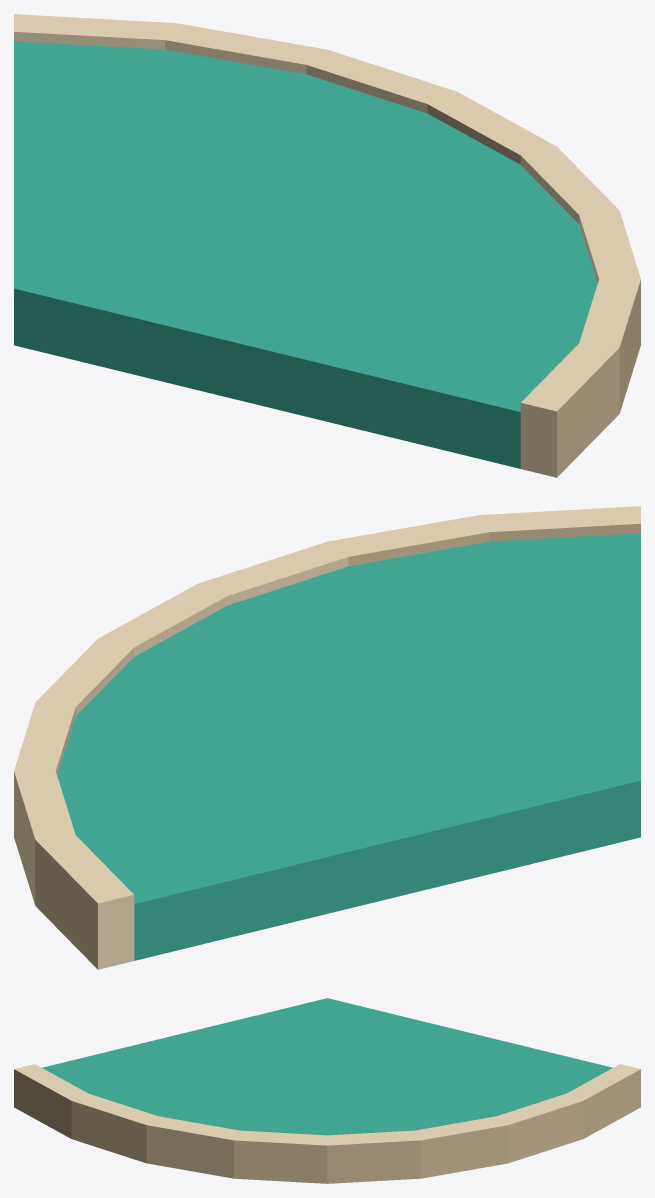
File: pie_slice_3.glb
3 renders of one model, top to bottom at view 1: azimuth 30°, elevation 25°; view 2: azimuth 150°, elevation 25°; view 3: azimuth 270°, elevation 25°, orthographic. The views are drawn at different scales.
Visible parts, largest first — view 1: slice; view 2: slice; view 3: slice.
Part boxes in pixels (x1=…): slice: x1=14, y1=14, x2=640, y2=477; slice: x1=14, y1=506, x2=640, y2=969; slice: x1=14, y1=998, x2=640, y2=1183.
Bounding box in the file's own units: 0.06 × 0.007 × 0.1039.
